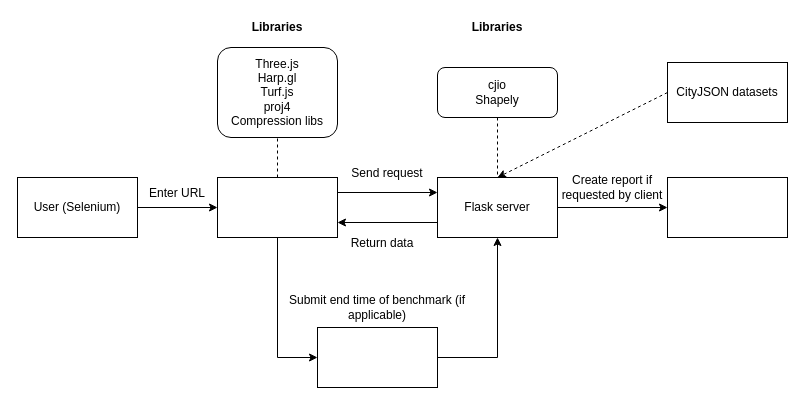
Image size: 805x405. Some labels were removed from this diagram. The box of each missing label's shape, as (x1, y1, x2, y2) in pixels:
Benchmark report: (666, 176, 788, 238)
Client: (216, 176, 338, 238)
SocketIO: (316, 326, 438, 388)
